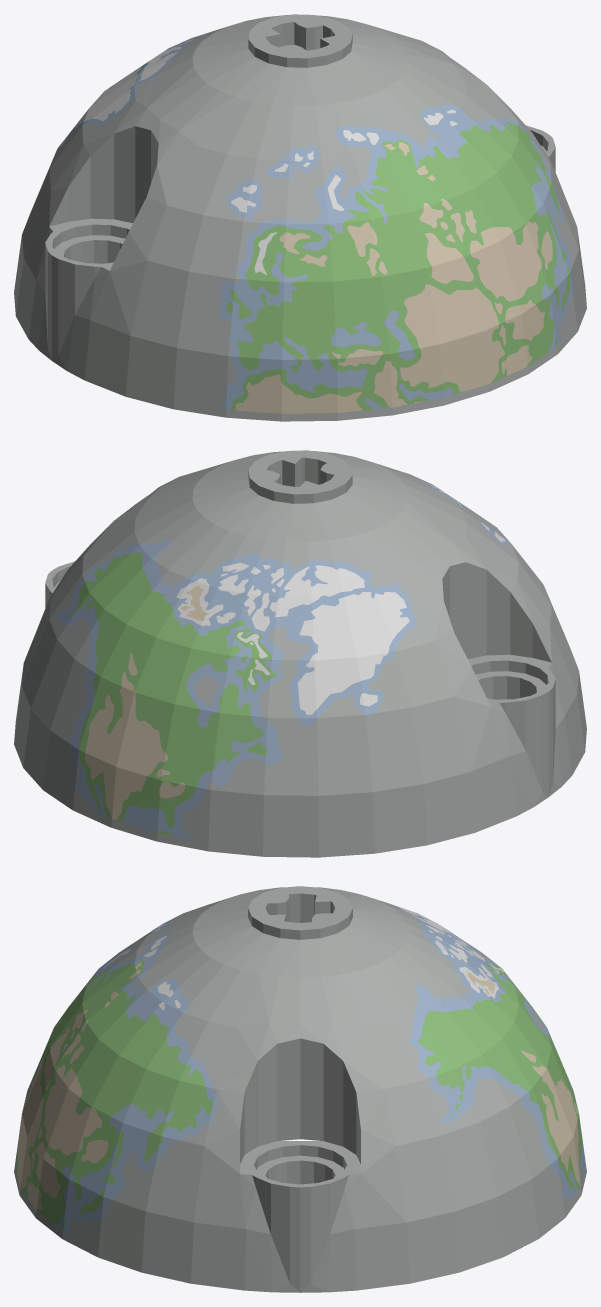
3 views of the same model, one above another, from view 1: azimuth 30°, elevation 25°; view 2: azimuth 150°, elevation 25°; view 3: azimuth 270°, elevation 25° (orthographic).
Visible parts, largest first — view 1: world; view 2: world; view 3: world.
Boxes of the visible parts, x1,y1,x2,y2 form: world: [14, 14, 586, 421]; world: [14, 450, 586, 857]; world: [14, 886, 586, 1292].
Size of the model in its own units: 0.0394 by 0.02 by 0.0394.
